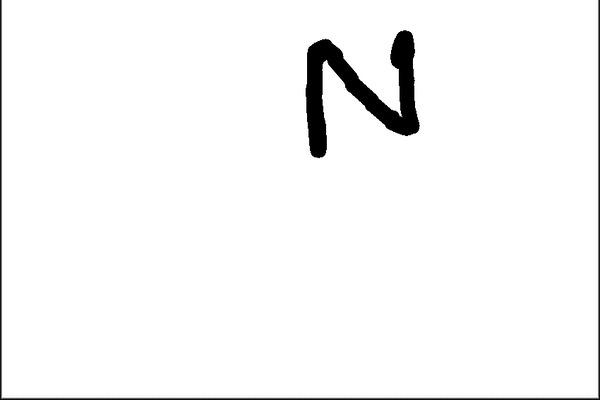N: (297, 27, 430, 161)
